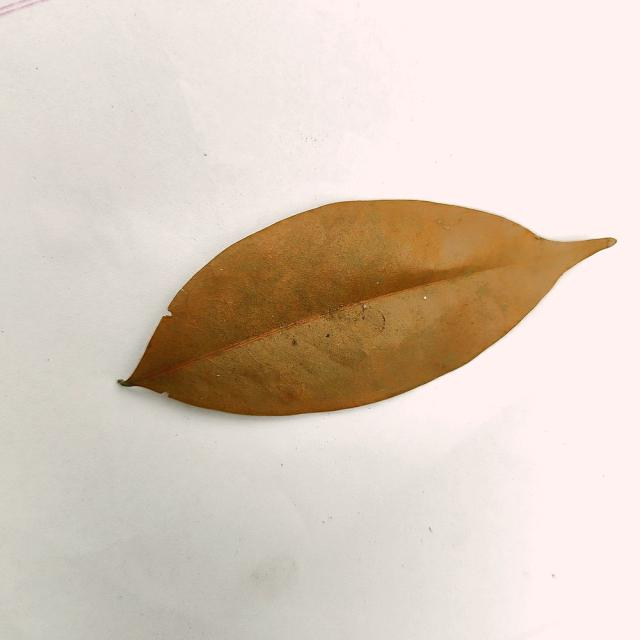Dry_Leaf-Lychee: (122, 199, 618, 419)
